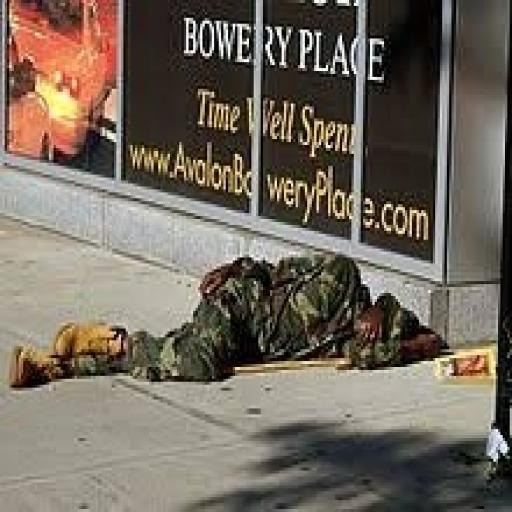sleeping: (7, 246, 451, 390)
